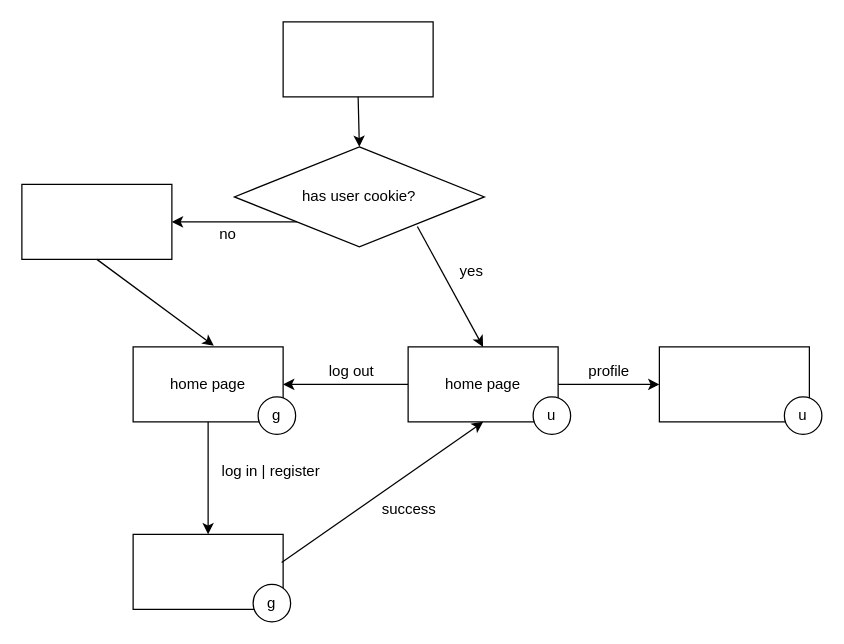
Some shapes in this 844 by 644 pixel diagram are drawn without their labels. The box of each missing label's shape, as (x1, y1, x2, y2) in pixels:
client request: (282, 21, 433, 97)
create guest cookie: (21, 183, 172, 259)
login & register forms: (132, 533, 283, 609)
user profile: (658, 346, 809, 422)
